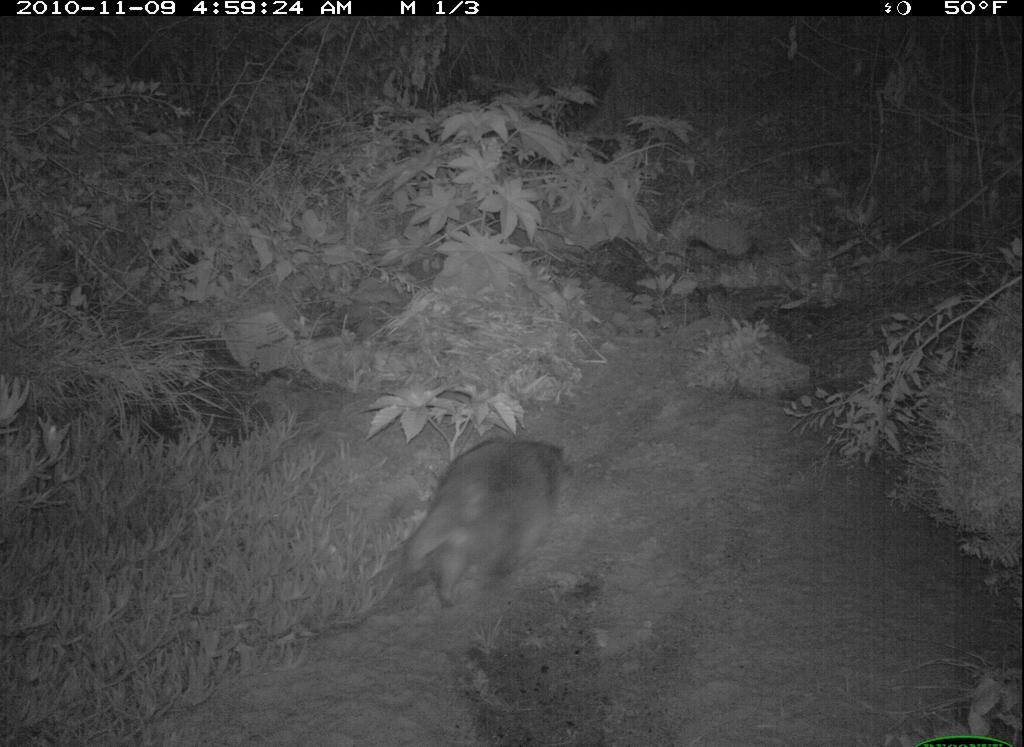raccoon: (383, 431, 584, 619)
